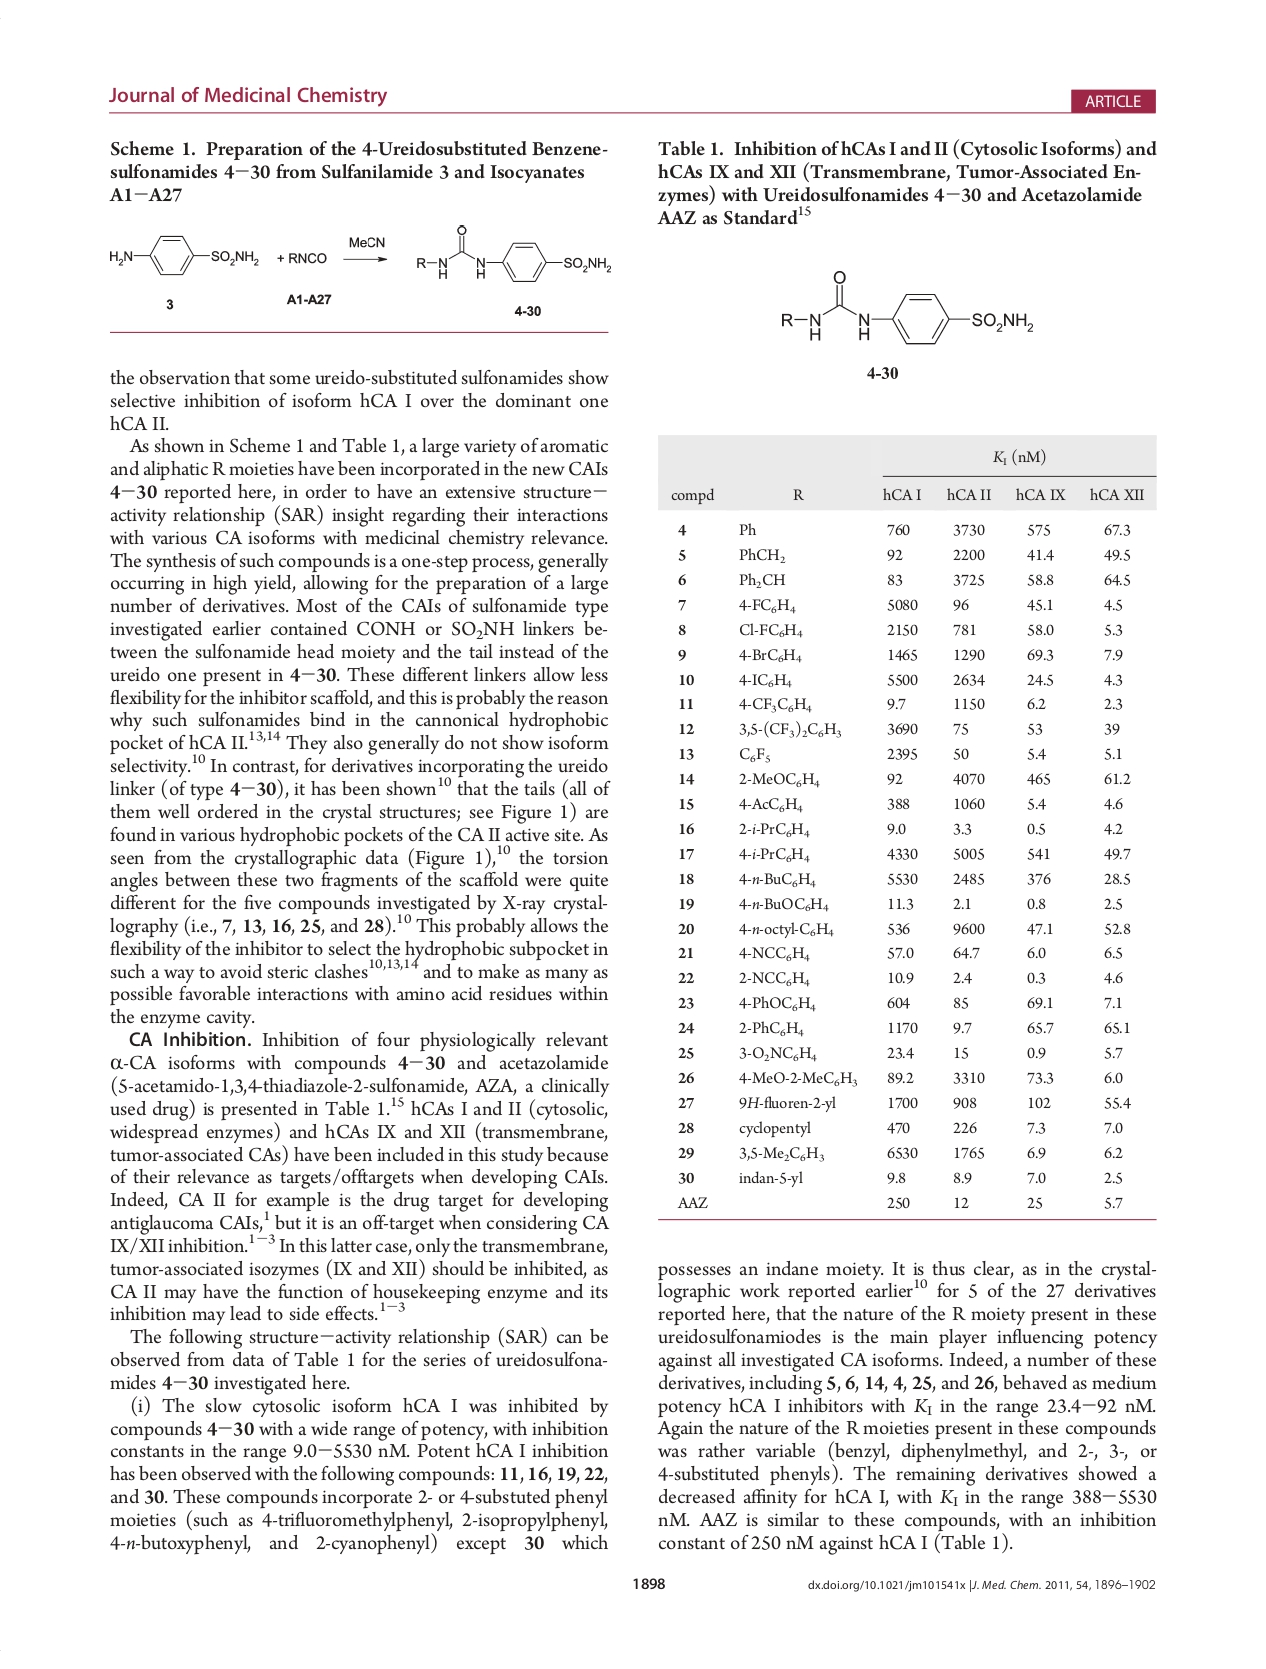exist_molecular: (775, 265, 1036, 346), (414, 222, 621, 289), (98, 230, 261, 278)
